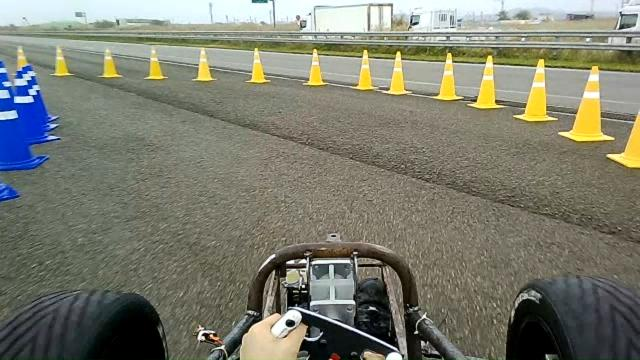blue cone: (0, 86, 49, 171), (9, 68, 60, 147), (16, 68, 61, 133), (17, 65, 63, 122)
yellow cone: (558, 64, 615, 142), (513, 58, 558, 122), (467, 54, 505, 110), (606, 110, 639, 168), (430, 52, 464, 101), (382, 50, 412, 96), (350, 49, 378, 90), (302, 48, 328, 86), (244, 47, 270, 84), (191, 47, 217, 82), (143, 46, 169, 80), (50, 44, 74, 77), (98, 48, 123, 78), (14, 45, 28, 71)
